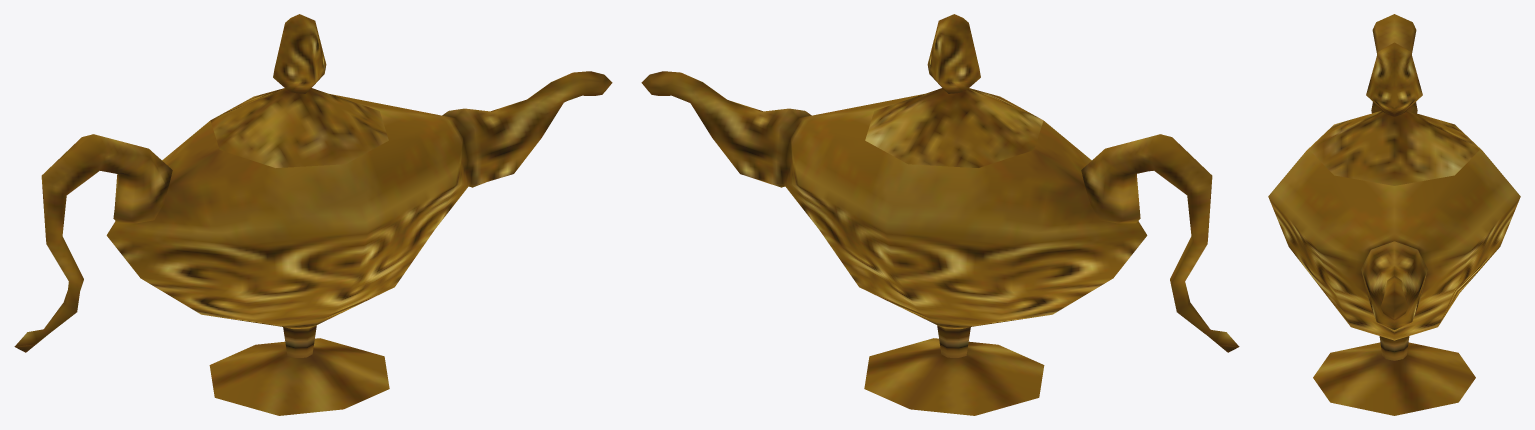
The model's file is ps2_save-icons_dark-cloud.glb.
3 renders of one model, left to right at view 1: azimuth 30°, elevation 25°; view 2: azimuth 150°, elevation 25°; view 3: azimuth 270°, elevation 25°, orthographic. The views are drawn at different scales.
Visible parts, largest first — view 1: dkicon.ico; view 2: dkicon.ico; view 3: dkicon.ico.
Boxes of the visible parts, bbox=[...] form: dkicon.ico: bbox=[14, 14, 612, 415]; dkicon.ico: bbox=[641, 14, 1239, 415]; dkicon.ico: bbox=[1268, 14, 1520, 415].
Size of the model in its own units: 3.36 by 1.95 by 1.33.
Materials: 1 (1 with a texture image).
